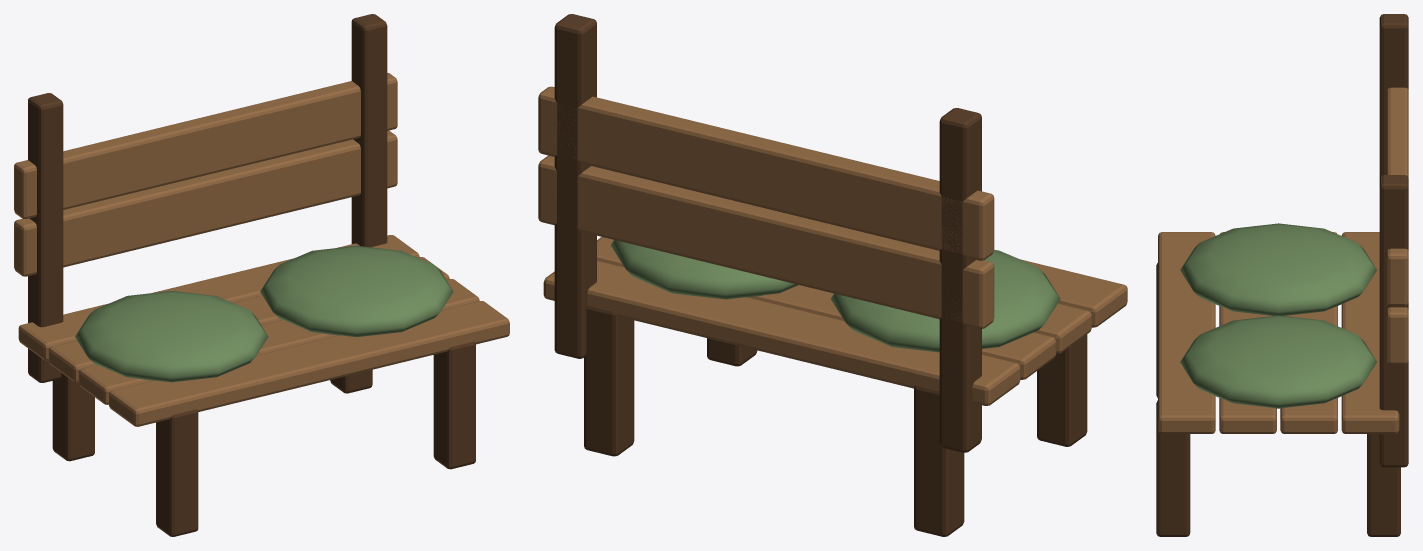
File: SM_HH_Art_Bench.fbx
The picture shows the model from 3 angles, left to right: view 1: azimuth 30°, elevation 25°; view 2: azimuth 150°, elevation 25°; view 3: azimuth 270°, elevation 25°; orthographic projection. The views are drawn at different scales.
Parts seen in each view (by area): view 1: HH_Art_Bench; view 2: HH_Art_Bench; view 3: HH_Art_Bench.
Boxes of the visible parts, bbox=[...] form: HH_Art_Bench: bbox=[14, 14, 509, 536]; HH_Art_Bench: bbox=[538, 14, 1127, 536]; HH_Art_Bench: bbox=[1156, 14, 1408, 536].
Size of the model in its own units: 0.7425 by 1.3 by 1.18.
